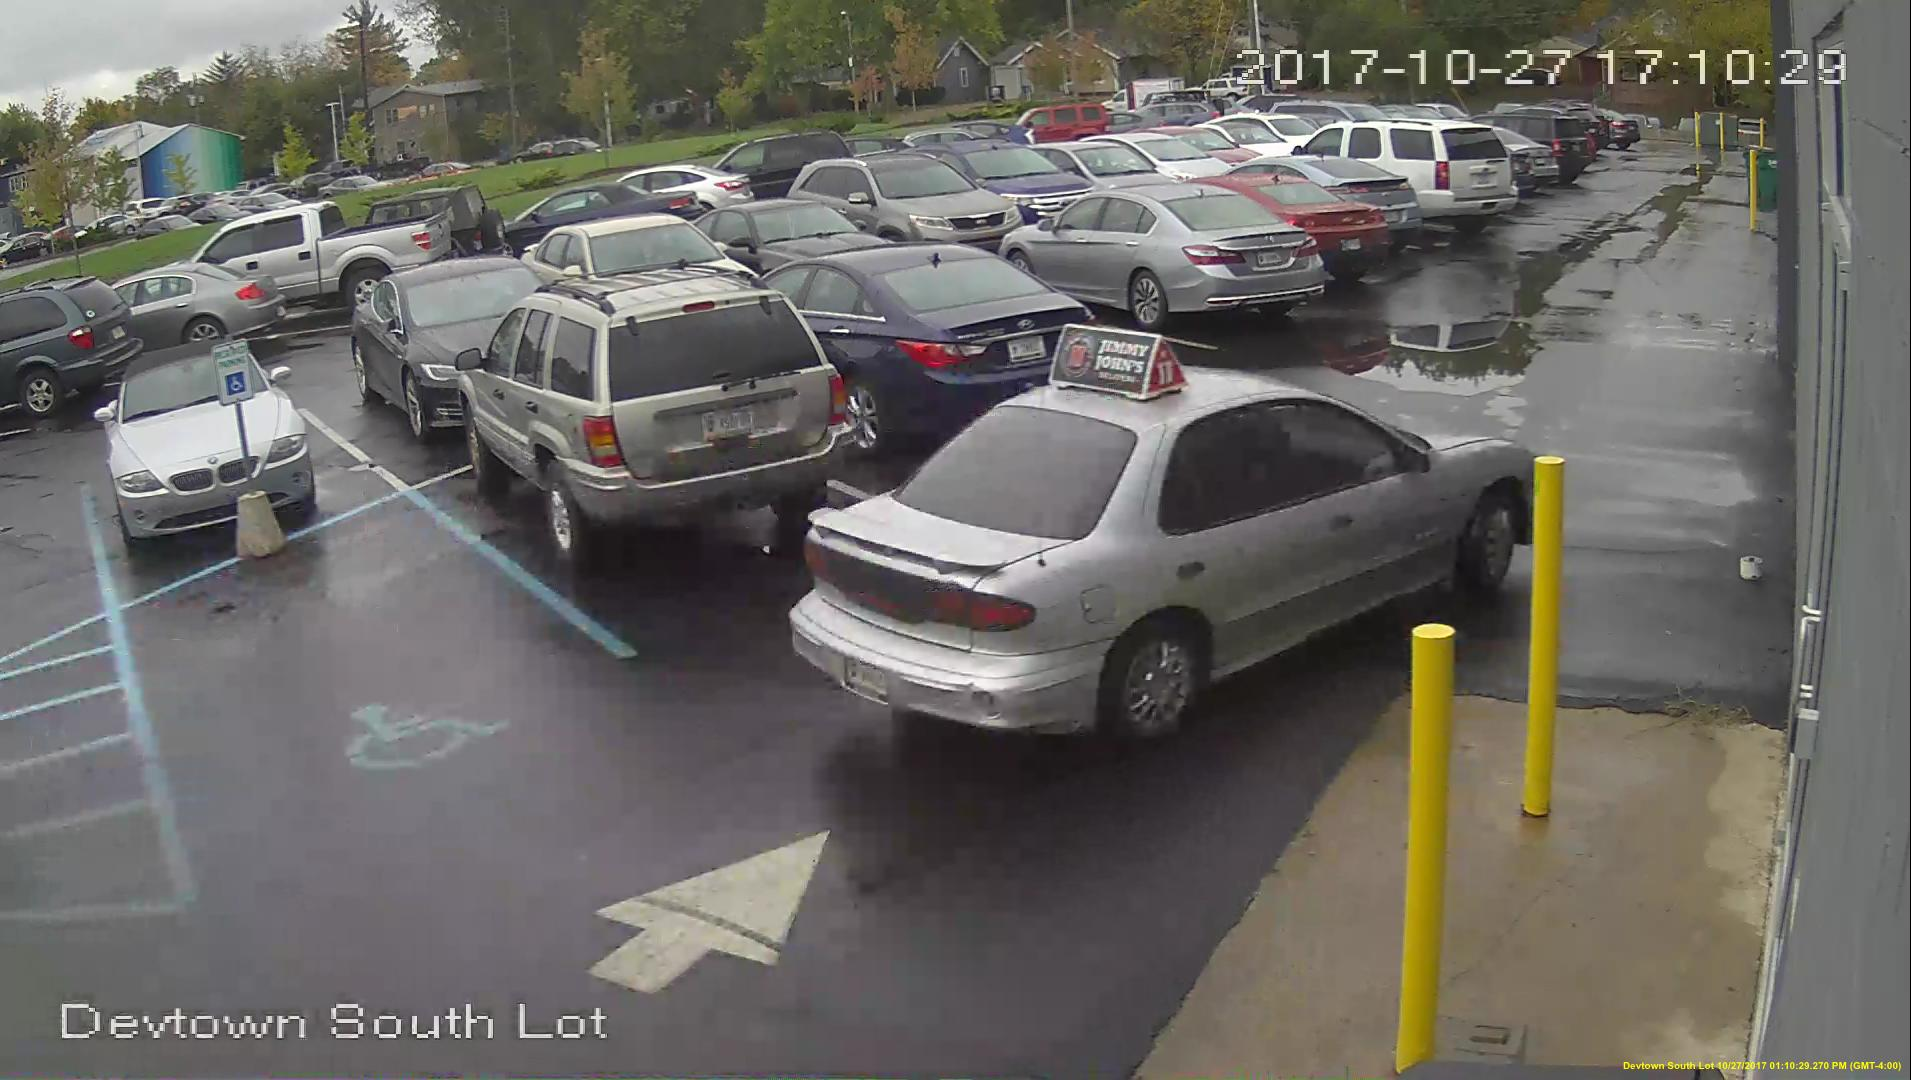jimmy_johns: (1050, 323, 1186, 398)
